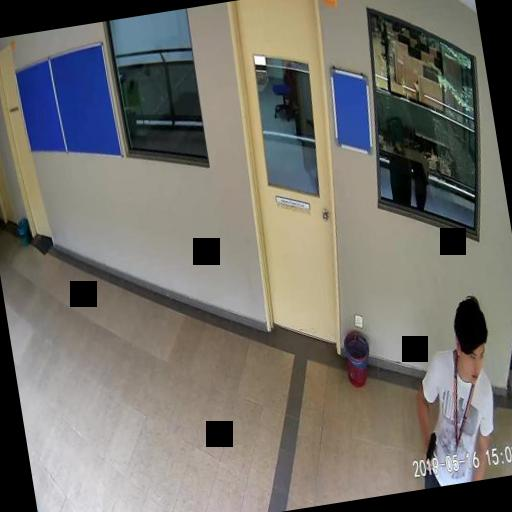Handgun: (420, 430, 438, 460)
